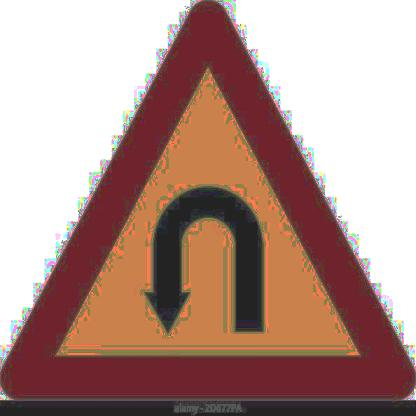U-turn: (8, 11, 410, 393)
